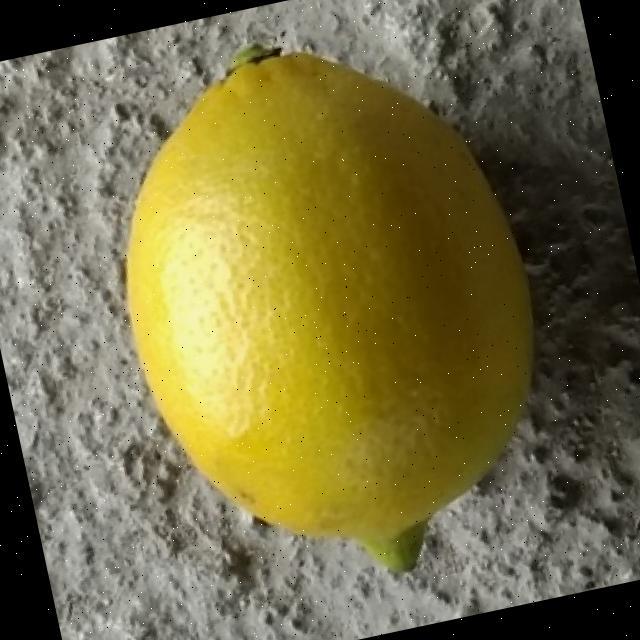Ripe: (70, 0, 585, 628)
